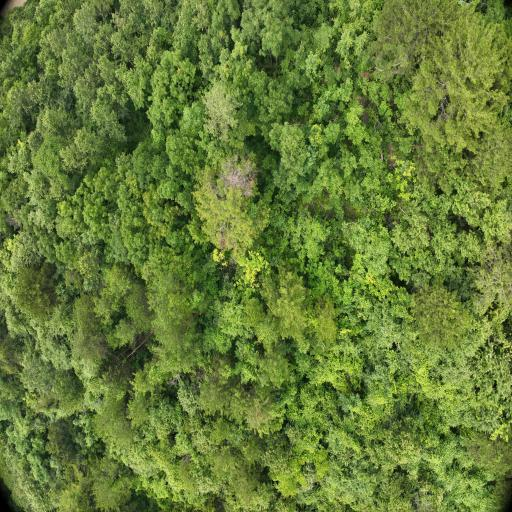dead-tree: (222, 169, 257, 193)
